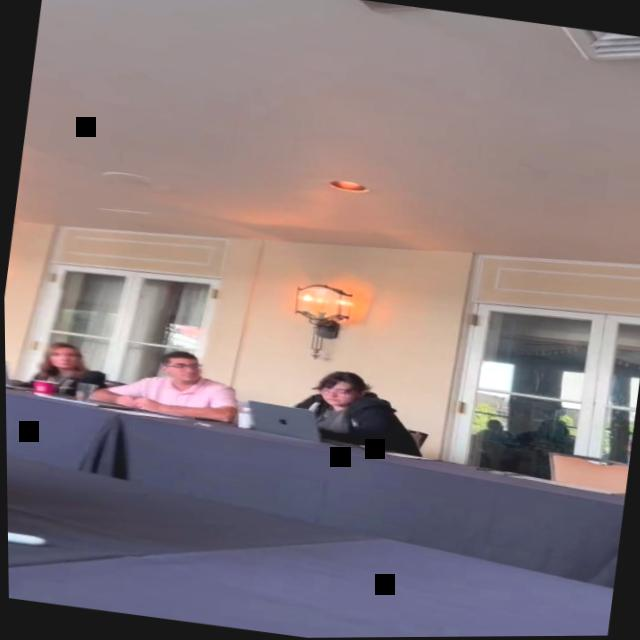NO-Mask: (319, 375, 358, 412), (165, 355, 203, 387), (48, 346, 78, 372)
